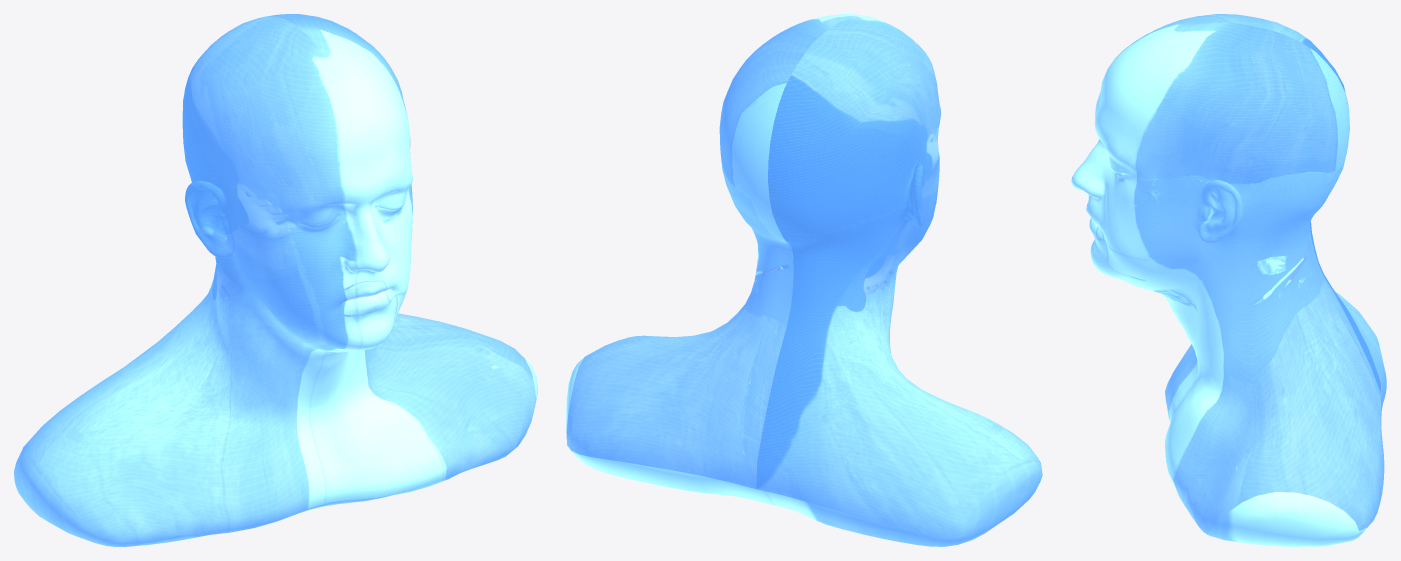
File: user_1765211089478.glb
The picture shows the model from 3 angles, left to right: view 1: azimuth 30°, elevation 25°; view 2: azimuth 150°, elevation 25°; view 3: azimuth 270°, elevation 25°; orthographic projection. The views are drawn at different scales.
Parts seen in each view (by area): view 1: LeePerrySmith; view 2: LeePerrySmith; view 3: LeePerrySmith.
Boxes of the visible parts, bbox=[...] form: LeePerrySmith: bbox=[14, 14, 537, 546]; LeePerrySmith: bbox=[566, 14, 1042, 546]; LeePerrySmith: bbox=[1071, 14, 1386, 546].
Bounding box in the file's own units: 8.55 × 7.95 × 5.18.
1 material, 1 textured.
